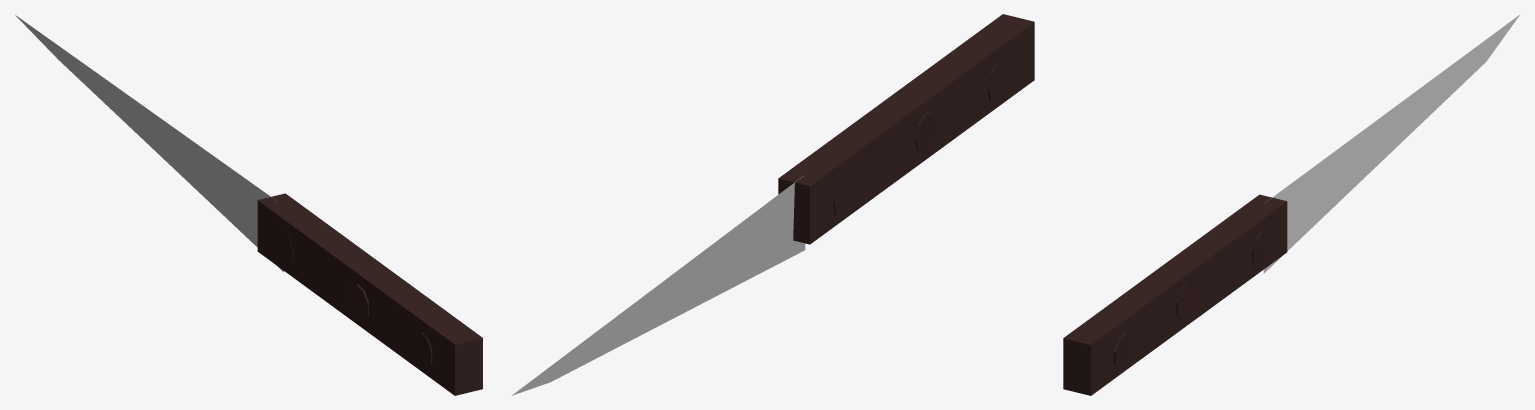
Rendered from knife.obj.
3 renders of one model, left to right at view 1: azimuth 30°, elevation 25°; view 2: azimuth 150°, elevation 25°; view 3: azimuth 330°, elevation 25°, orthographic. The views are drawn at different scales.
Visible parts, largest first — view 1: Cube, Plane, Cylinder.001, Cylinder, Plane.001; view 2: Cube, Plane, Cylinder.001, Cylinder, Plane.001; view 3: Cube, Plane, Plane.001, Cylinder.001, Cylinder.
Part boxes in pixels (left/top/right/bottom): Cube: left=257, top=193, right=482, bottom=395; Plane: left=15, top=15, right=283, bottom=271; Cylinder.001: left=412, top=332, right=432, bottom=369; Cylinder: left=349, top=284, right=368, bottom=321; Plane.001: left=276, top=231, right=292, bottom=267; Cube: left=778, top=14, right=1034, bottom=244; Plane: left=512, top=175, right=805, bottom=395; Cylinder.001: left=987, top=60, right=1010, bottom=103; Cylinder: left=915, top=111, right=938, bottom=154; Plane.001: left=833, top=175, right=850, bottom=217; Cube: left=1063, top=194, right=1287, bottom=395; Plane: left=1263, top=15, right=1519, bottom=273; Plane.001: left=1077, top=197, right=1272, bottom=341; Cylinder.001: left=1113, top=332, right=1134, bottom=370; Cylinder: left=1176, top=283, right=1196, bottom=321.
Bounding box in the file's own units: 0.4711 × 0.9591 × 11.39.
